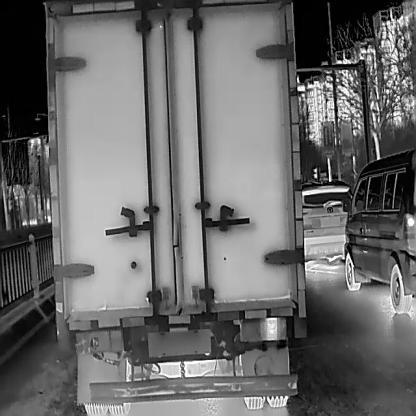car: (43, 0, 306, 414), (344, 148, 416, 312), (302, 179, 354, 265)
